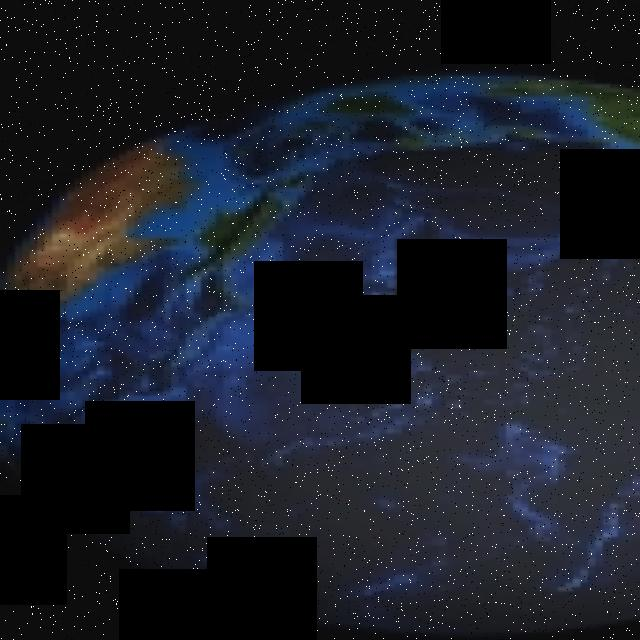Earth: (0, 75, 640, 636)
